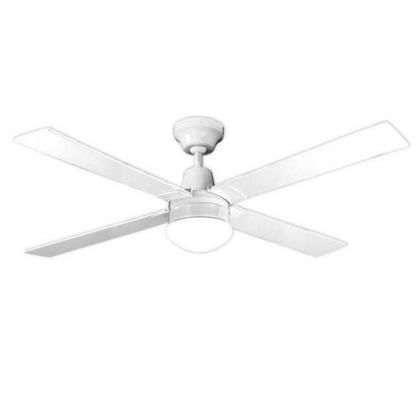ceiling-fan: (11, 115, 411, 258)
